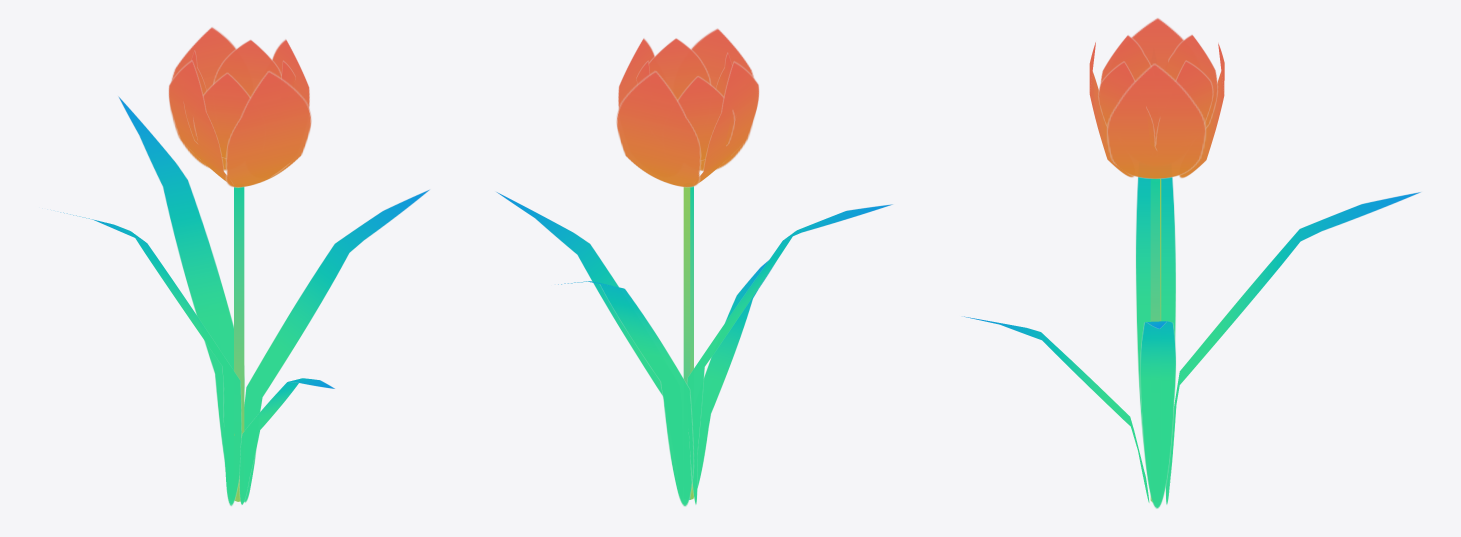
The model's file is Flowers_n02_14.glb.
3 views of the same model, side by side, from view 1: azimuth 30°, elevation 25°; view 2: azimuth 150°, elevation 25°; view 3: azimuth 270°, elevation 25° (orthographic). The views are drawn at different scales.
Visible parts, largest first — view 1: polySurface245; view 2: polySurface245; view 3: polySurface245.
Part boxes in pixels (x1,y1,x2,y2): polySurface245: (60, 27, 430, 506); polySurface245: (495, 28, 893, 506); polySurface245: (962, 17, 1421, 508).
Bounding box in the file's own units: 0.3979 × 0.4142 × 0.3883.
Materials: 1 (1 with a texture image).
